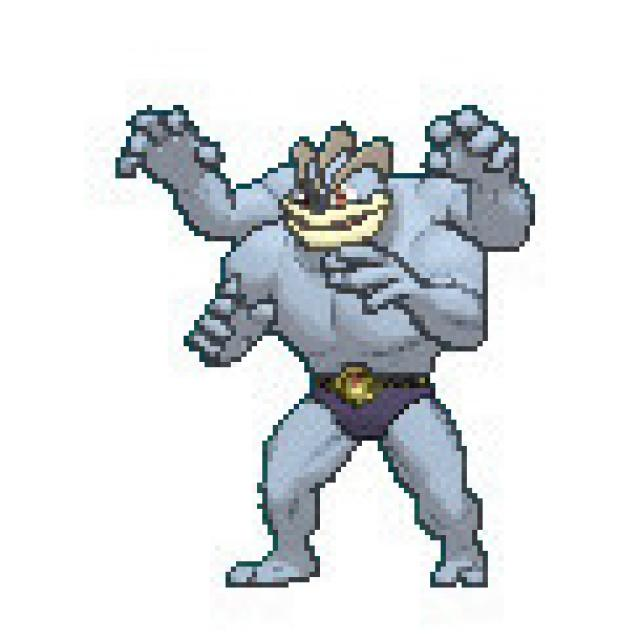Machamp: (125, 105, 546, 583)
